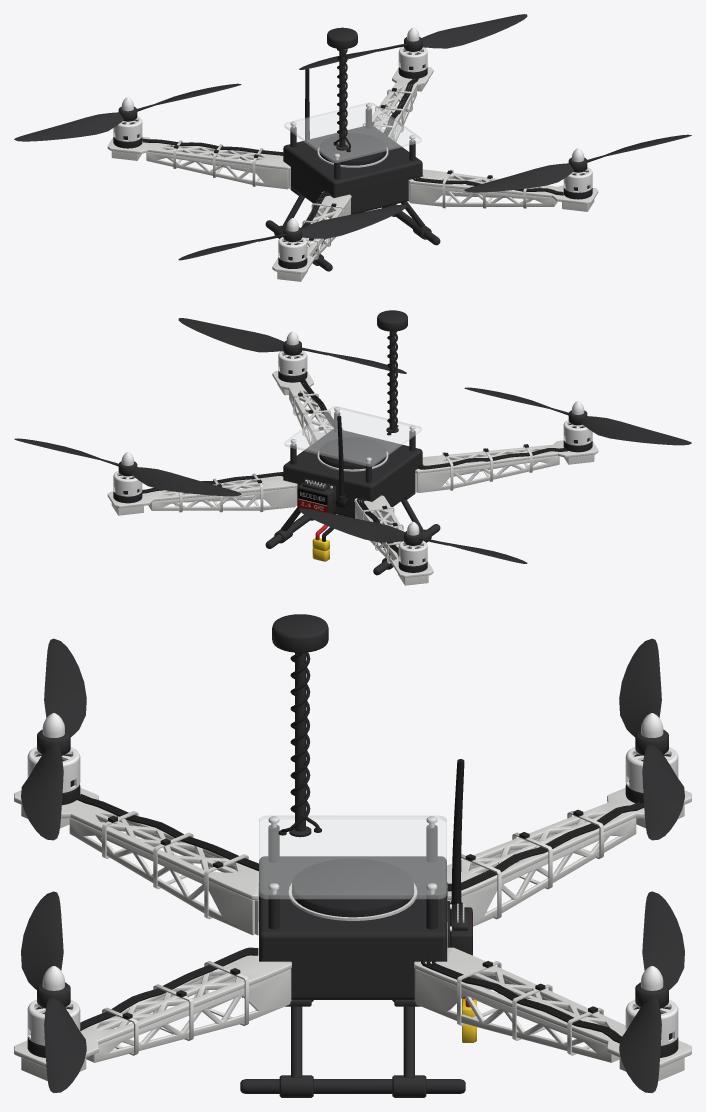
The model's file is MoonLady_Beta_1.glb.
3 views of the same model, one above another, from view 1: azimuth 30°, elevation 25°; view 2: azimuth 150°, elevation 25°; view 3: azimuth 270°, elevation 25° (orthographic). The views are drawn at different scales.
Visible parts, largest first — view 1: Chassis_Enclosure, Acrylic_Top_Plate, Arm_Front_Left, Arm_Rear_Right, Propeller_RL, Propeller_FR, Propeller_FL, Propeller_RR, Circular_Component, Arm_Rear_Left, Arm_Front_Right, Motor_Wire_Ties (+11 smaller); view 2: Chassis_Enclosure, Acrylic_Top_Plate, Arm_Rear_Left, Arm_Front_Right, Propeller_FL, Propeller_RR, Propeller_RL, Propeller_FR, Circular_Component, Arm_Front_Left, Arm_Rear_Right, Motor_Wire_Ties (+13 smaller); view 3: Chassis_Enclosure, Acrylic_Top_Plate, Arm_Rear_Right, Arm_Front_Right, Arm_Rear_Left, Arm_Front_Left, Propeller_FL, Propeller_RL, Propeller_FR, Propeller_RR, Circular_Component, Landing_Gear_Right (+14 smaller).
Boxes of the visible parts, bbox=[...] form: Chassis_Enclosure: bbox=[283, 125, 422, 214]; Acrylic_Top_Plate: bbox=[284, 102, 421, 162]; Arm_Front_Left: bbox=[107, 136, 290, 189]; Arm_Rear_Right: bbox=[408, 169, 598, 211]; Propeller_RL: bbox=[178, 204, 406, 260]; Propeller_FR: bbox=[299, 14, 527, 69]; Propeller_FL: bbox=[14, 83, 241, 141]; Propeller_RR: bbox=[464, 134, 691, 192]; Circular_Component: bbox=[319, 133, 386, 165]; Arm_Rear_Left: bbox=[272, 191, 351, 281]; Arm_Front_Right: bbox=[365, 67, 433, 141]; Motor_Wire_Ties: bbox=[173, 88, 530, 259]; Chassis_Enclosure: bbox=[283, 429, 422, 518]; Acrylic_Top_Plate: bbox=[284, 406, 421, 466]; Arm_Rear_Left: bbox=[415, 440, 598, 492]; Arm_Front_Right: bbox=[107, 476, 297, 515]; Propeller_FL: bbox=[299, 508, 527, 563]; Propeller_RR: bbox=[178, 318, 406, 373]; Propeller_RL: bbox=[464, 387, 691, 445]; Propeller_FR: bbox=[14, 438, 241, 496]; Circular_Component: bbox=[319, 437, 386, 469]; Arm_Front_Left: bbox=[354, 495, 433, 585]; Arm_Rear_Right: bbox=[272, 371, 332, 445]; Motor_Wire_Ties: bbox=[175, 393, 532, 563]; Chassis_Enclosure: bbox=[259, 856, 446, 999]; Acrylic_Top_Plate: bbox=[259, 815, 446, 898]; Arm_Rear_Right: bbox=[14, 947, 291, 1080]; Arm_Front_Right: bbox=[414, 947, 691, 1080]; Arm_Rear_Left: bbox=[14, 787, 258, 935]; Arm_Front_Left: bbox=[447, 787, 691, 926]; Propeller_FL: bbox=[619, 638, 684, 840]; Propeller_RL: bbox=[21, 638, 86, 840]; Propeller_FR: bbox=[619, 891, 684, 1092]; Propeller_RR: bbox=[21, 891, 86, 1092]; Circular_Component: bbox=[292, 858, 413, 917]; Landing_Gear_Right: bbox=[240, 1000, 465, 1097].
Bounding box in the file's own units: 0.5722 × 0.2361 × 0.3606.
23 materials, 1 textured.
